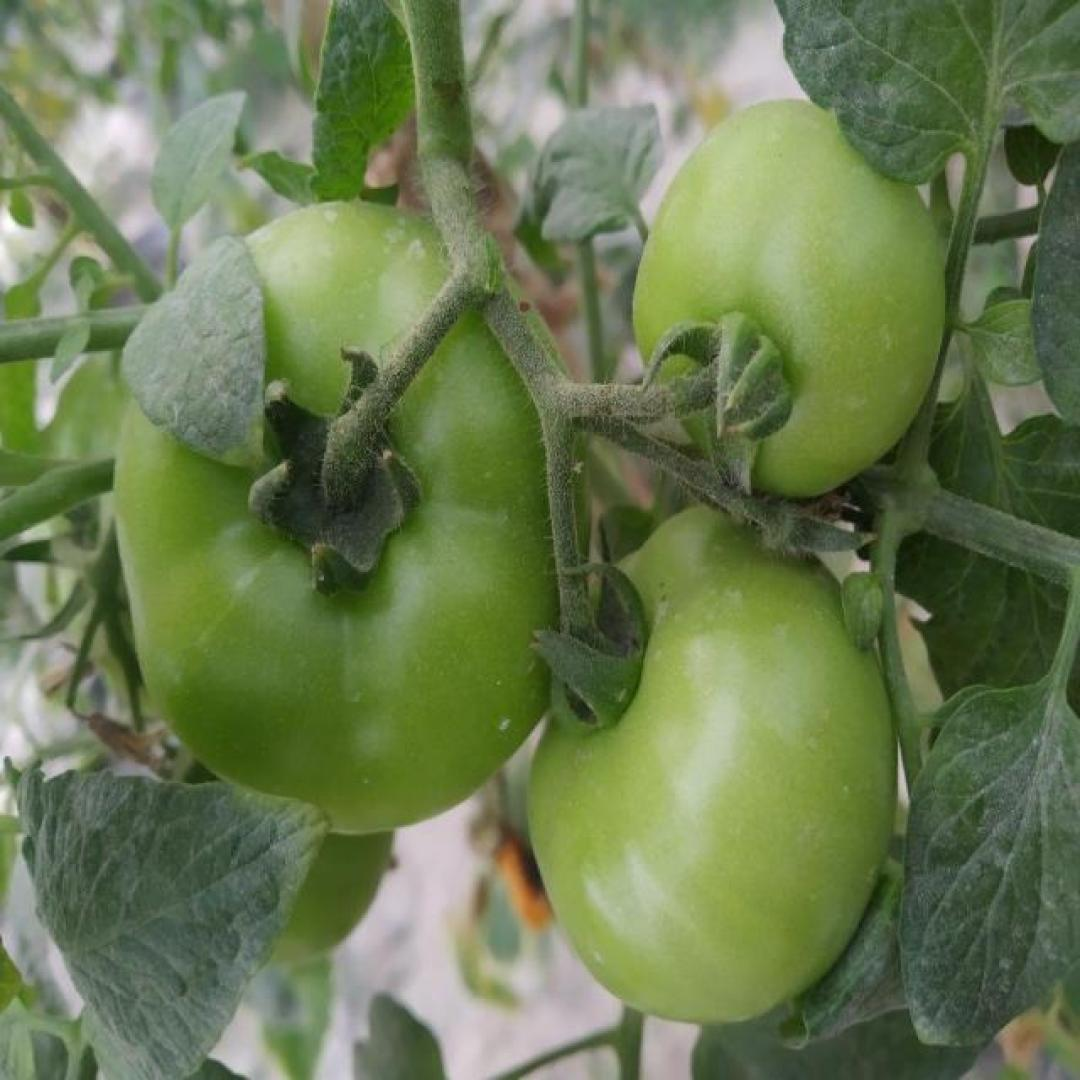mentah: (110, 196, 592, 837), (525, 495, 899, 1031), (632, 94, 948, 503)
